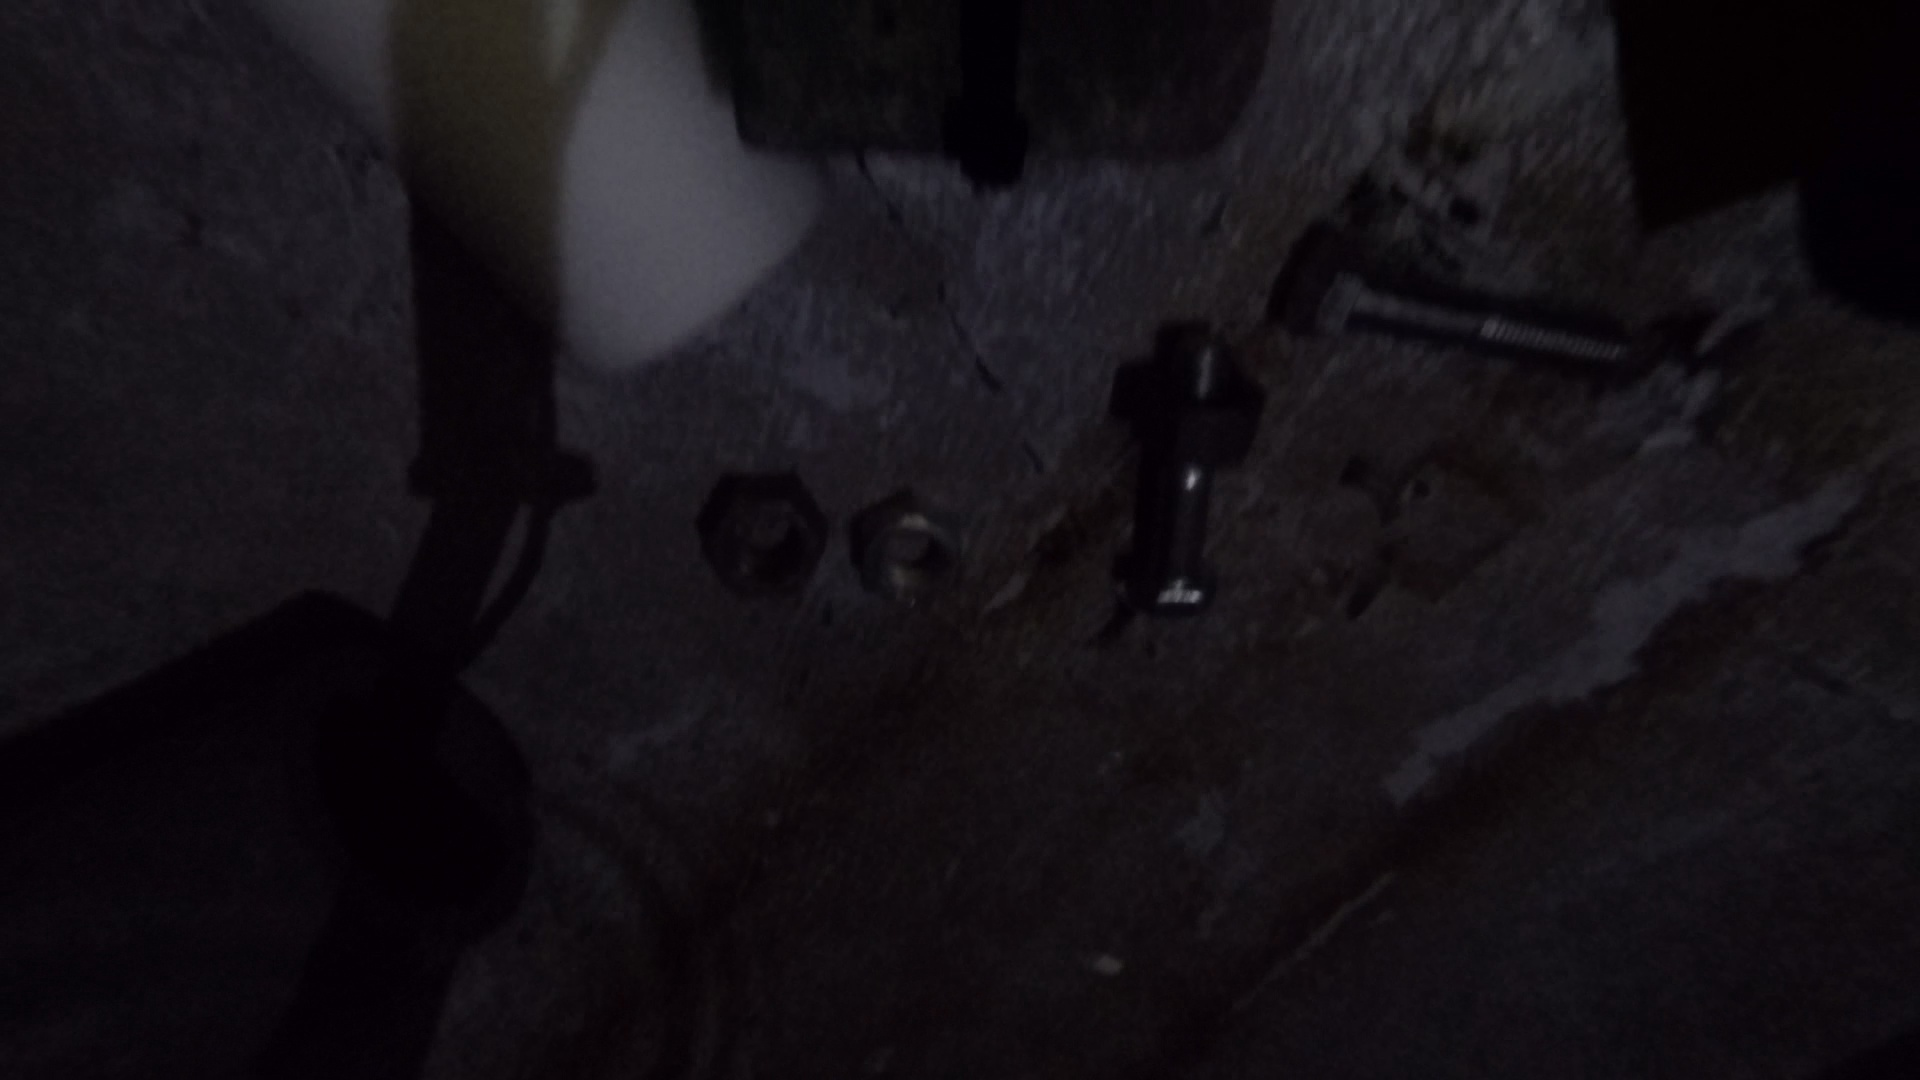bolt: (1269, 220, 1631, 382), (1127, 322, 1224, 618)
led_block: (723, 4, 1259, 175)
nut: (1112, 359, 1269, 469), (692, 479, 831, 603), (853, 491, 963, 615)
pipe: (1, 630, 534, 1076), (237, 1, 837, 381)
